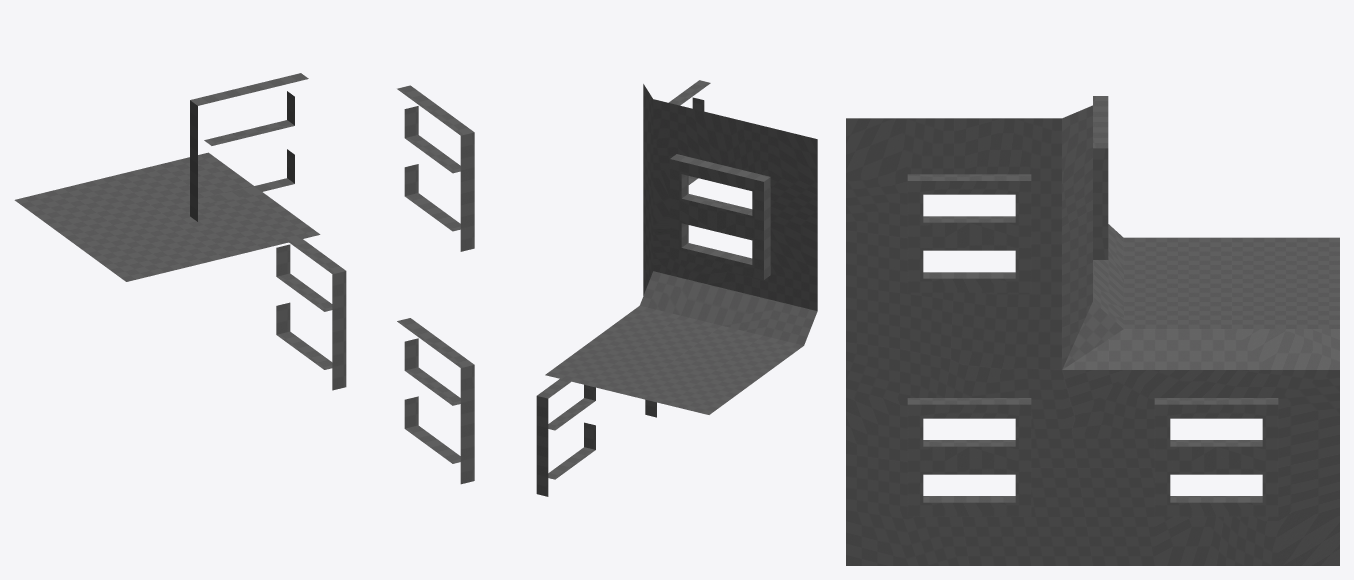
3 views of the same model, side by side, from view 1: azimuth 30°, elevation 25°; view 2: azimuth 150°, elevation 25°; view 3: azimuth 270°, elevation 25° (orthographic). The views are drawn at different scales.
Parts seen in each view (by area): view 1: 4; view 2: 4; view 3: 4.
Boxes of the visible parts, x1,y1,x2,y2 form: 4: [14, 73, 474, 484]; 4: [536, 80, 817, 496]; 4: [846, 96, 1339, 565].
Bounding box in the file's own units: 2.12 × 4 × 4.
2 materials, 2 textured.
